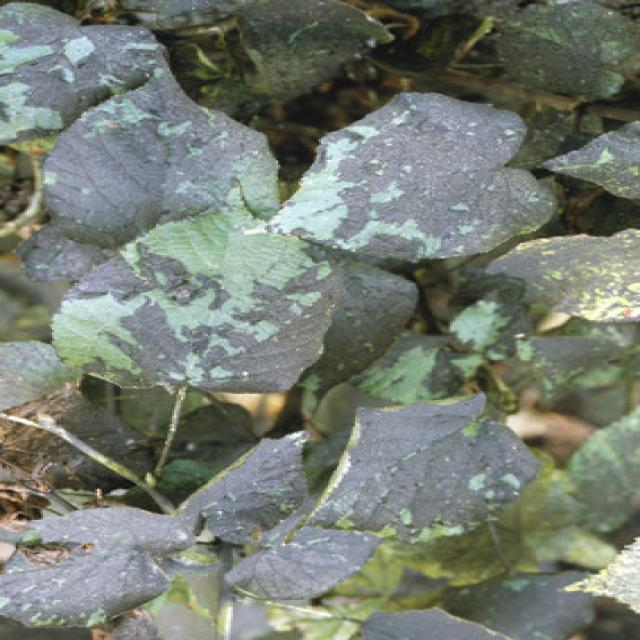Sooty Mold: (0, 0, 635, 637)
